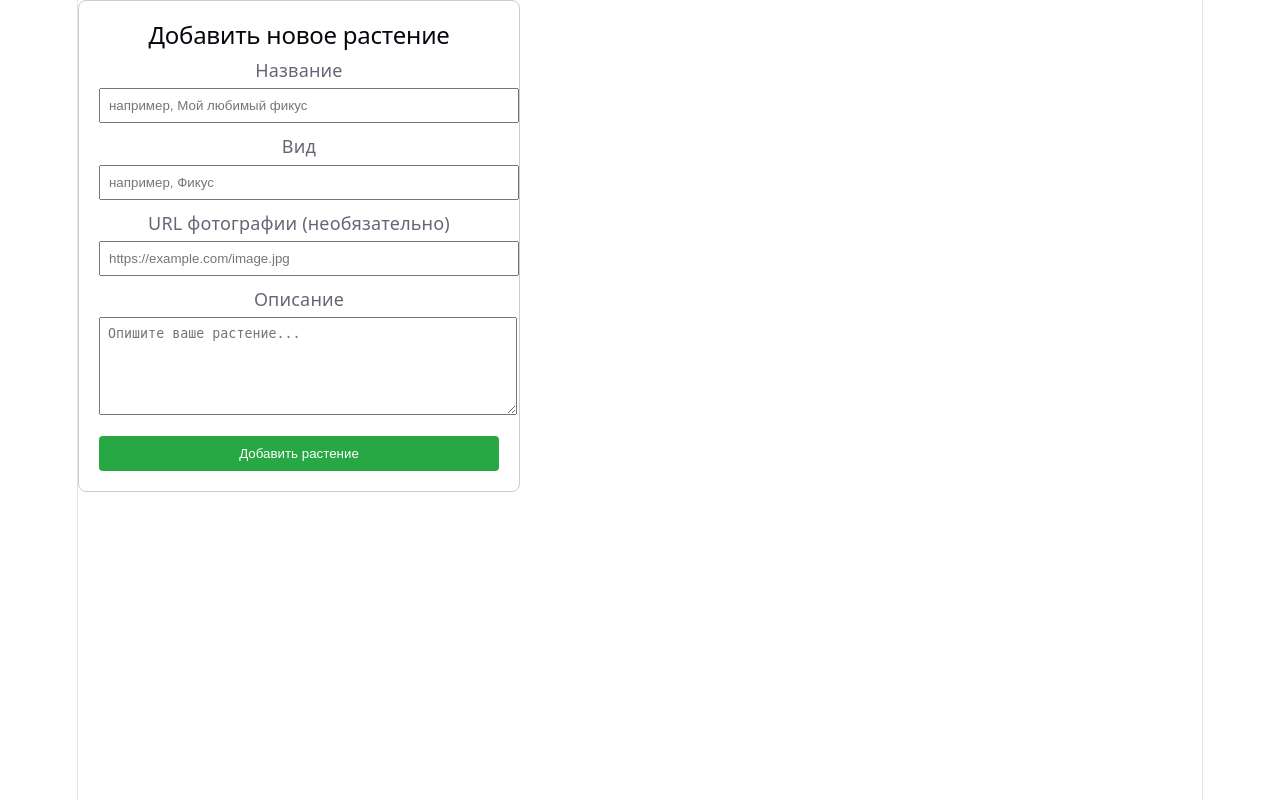
Test: AddPlantForm Component › shows error if API fails
Type "My Plant" into the field with placeholder "например, Мой любимый фикус" at (309, 106), box [99, 88, 519, 123]
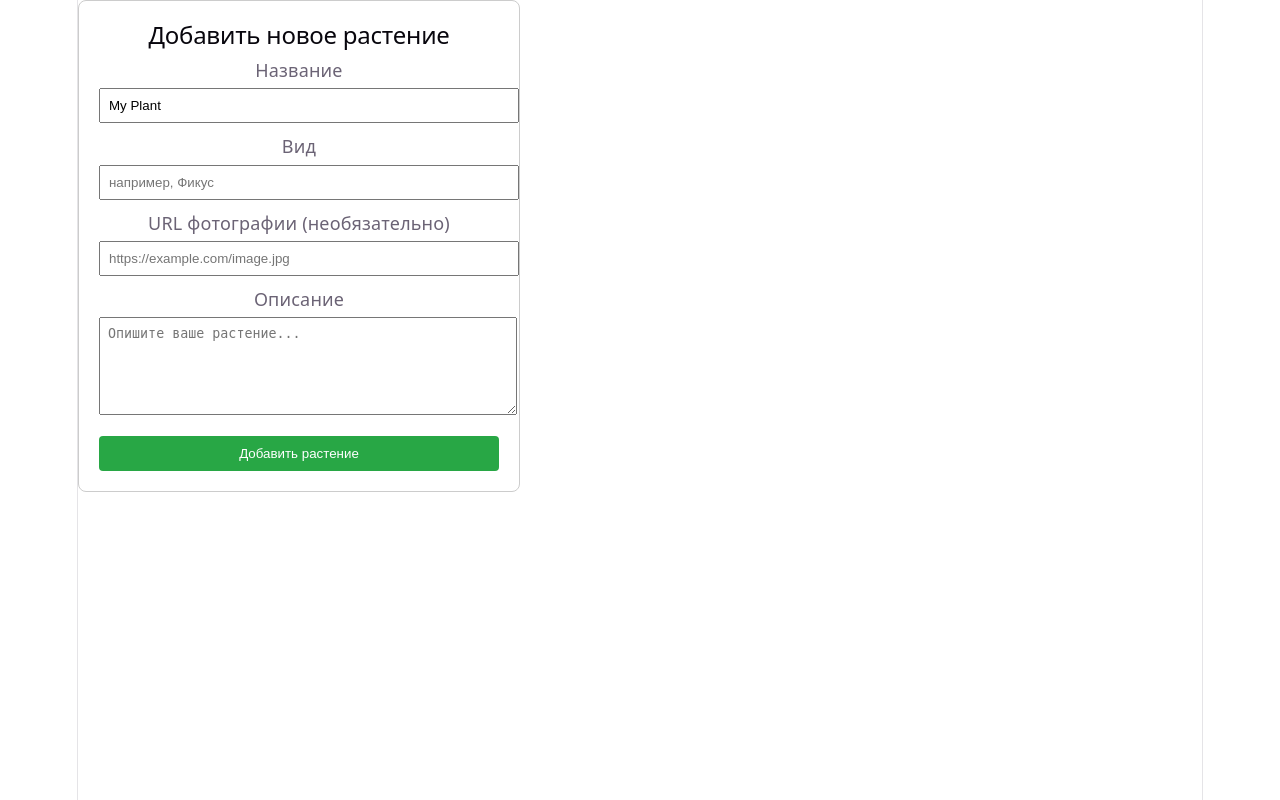
Type "Ficus" into the field with placeholder "например, Фикус" at (309, 182), box [99, 164, 519, 200]
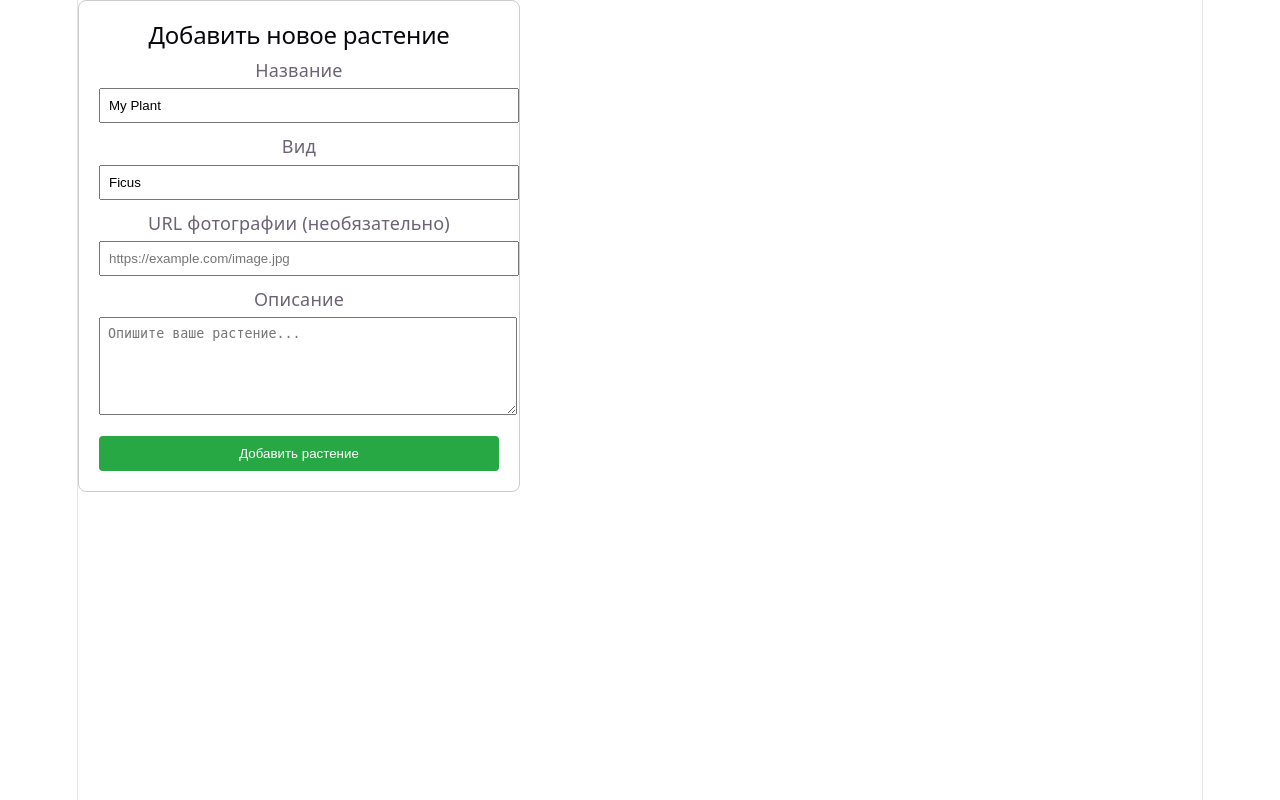
Click the button "Добавить растение" at (299, 453), box [99, 436, 499, 471]
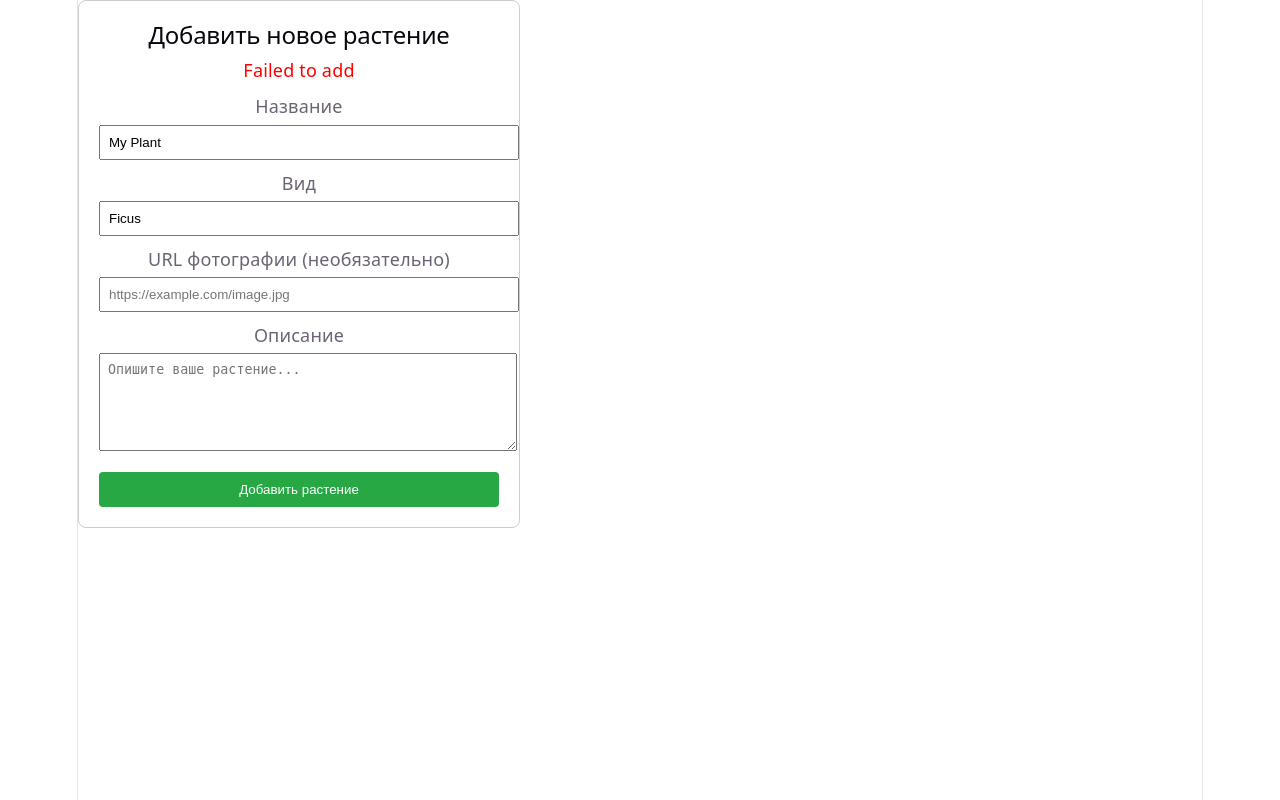
Expected: the text "Failed to add" is shown, [243, 58, 355, 82]
